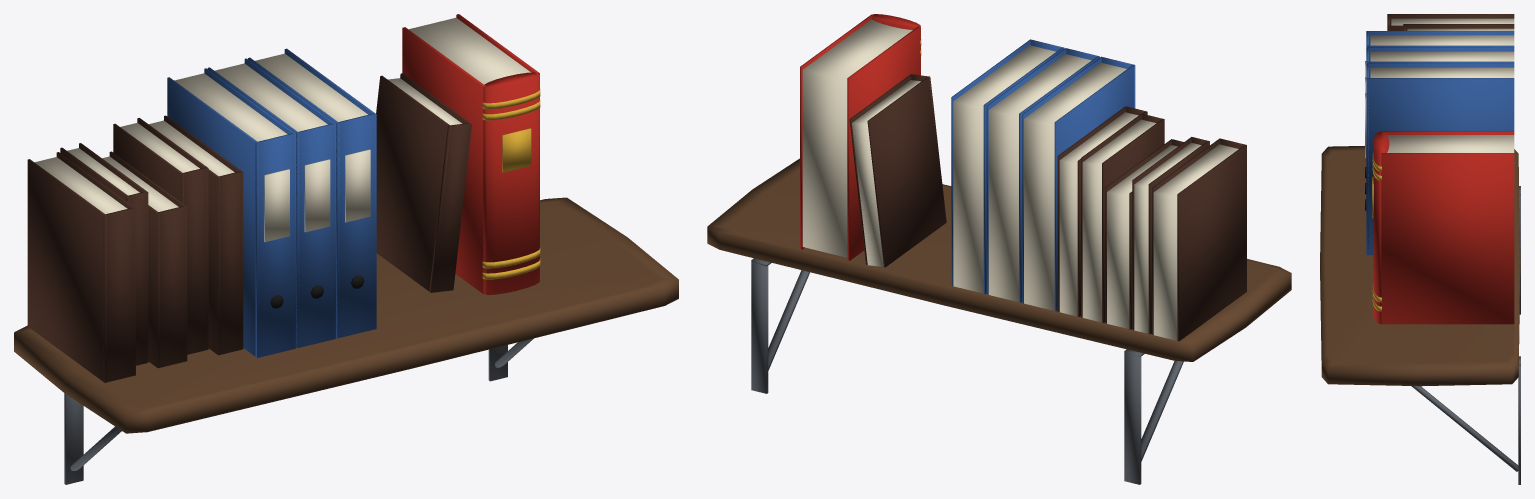
File: manual.glb
3 renders of one model, left to right at view 1: azimuth 30°, elevation 25°; view 2: azimuth 150°, elevation 25°; view 3: azimuth 270°, elevation 25°, orthographic. The views are drawn at different scales.
Parts seen in each view (by area): view 1: Books, Board, Binders, Pages, Manual, ManualPages, Brackets, Spine; view 2: Pages, Books, Board, ManualPages, Binders, Brackets, Manual; view 3: Manual, Board, Binders, Pages, ManualPages, Brackets, Books, Spine.
Part boxes in pixels (box(x1,y1,x2,y2)): Books: box(27, 73, 471, 382); Board: box(14, 197, 678, 433); Binders: box(167, 48, 376, 357); Pages: box(35, 53, 462, 242); Manual: box(402, 14, 539, 294); ManualPages: box(409, 17, 530, 84); Brackets: box(64, 338, 533, 484); Spine: box(482, 89, 540, 279); Pages: box(852, 45, 1238, 340); Books: box(849, 74, 1246, 341); Board: box(707, 158, 1291, 361); ManualPages: box(802, 19, 912, 257); Binders: box(951, 39, 1135, 311); Brackets: box(751, 258, 1183, 484); Manual: box(800, 14, 920, 260); Manual: box(1373, 131, 1514, 324); Board: box(1320, 146, 1520, 386); Binders: box(1366, 31, 1514, 255); Pages: box(1365, 18, 1514, 157); ManualPages: box(1387, 135, 1514, 152); Brackets: box(1411, 186, 1520, 484); Books: box(1387, 14, 1514, 30); Spine: box(1372, 152, 1381, 311).
Bounding box in the file's own units: 0.7952 × 0.52 × 0.2991.
